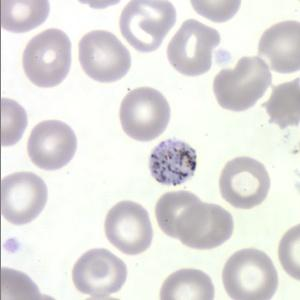Infected: (150, 139, 198, 187)
Uninfected: (214, 56, 272, 111), (23, 28, 71, 90), (168, 19, 220, 76), (223, 247, 278, 300), (78, 30, 133, 82), (121, 0, 175, 52), (119, 88, 169, 142), (74, 246, 128, 296), (221, 156, 271, 210), (28, 118, 78, 171), (0, 171, 49, 225), (106, 201, 152, 256), (178, 204, 233, 250), (258, 20, 300, 73), (158, 192, 202, 242), (160, 267, 217, 300), (263, 79, 300, 129), (0, 0, 49, 34), (0, 267, 40, 300)
